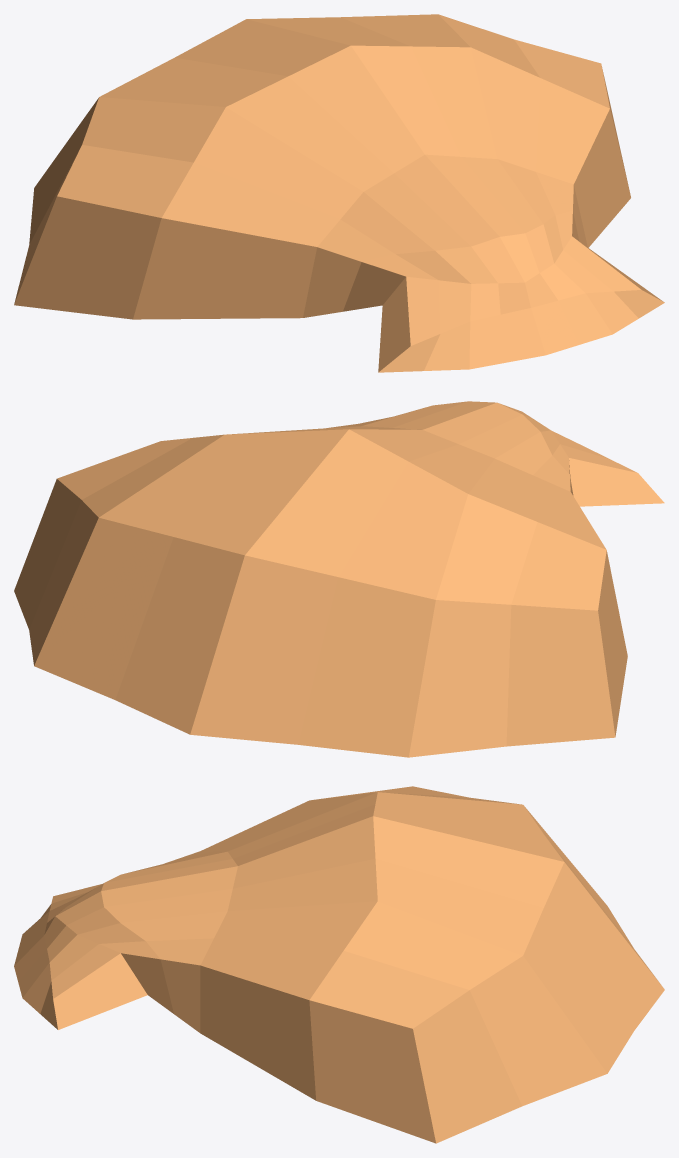
Rendered from shell2.fbx.
The picture shows the model from 3 angles, top to bottom: view 1: azimuth 30°, elevation 25°; view 2: azimuth 150°, elevation 25°; view 3: azimuth 270°, elevation 25°; orthographic projection. The views are drawn at different scales.
Visible parts, largest first — view 1: ScallopShell; view 2: ScallopShell; view 3: ScallopShell.
Boxes of the visible parts, left/top/right/bottom form: ScallopShell: left=14, top=14, right=664, bottom=372; ScallopShell: left=14, top=401, right=664, bottom=757; ScallopShell: left=14, top=786, right=664, bottom=1143.
Size of the model in its own units: 132 by 44.08 by 135.
